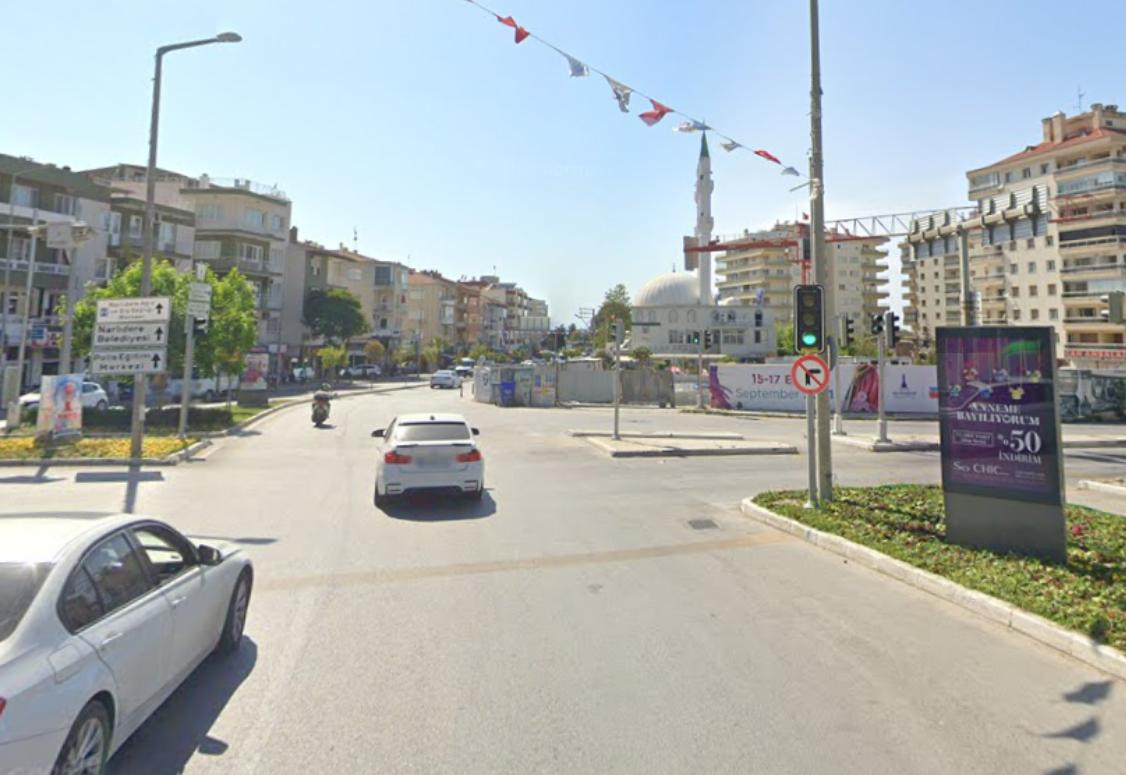greenlight: (798, 286, 822, 348)
rightturnsareforbidden: (793, 358, 828, 393)
